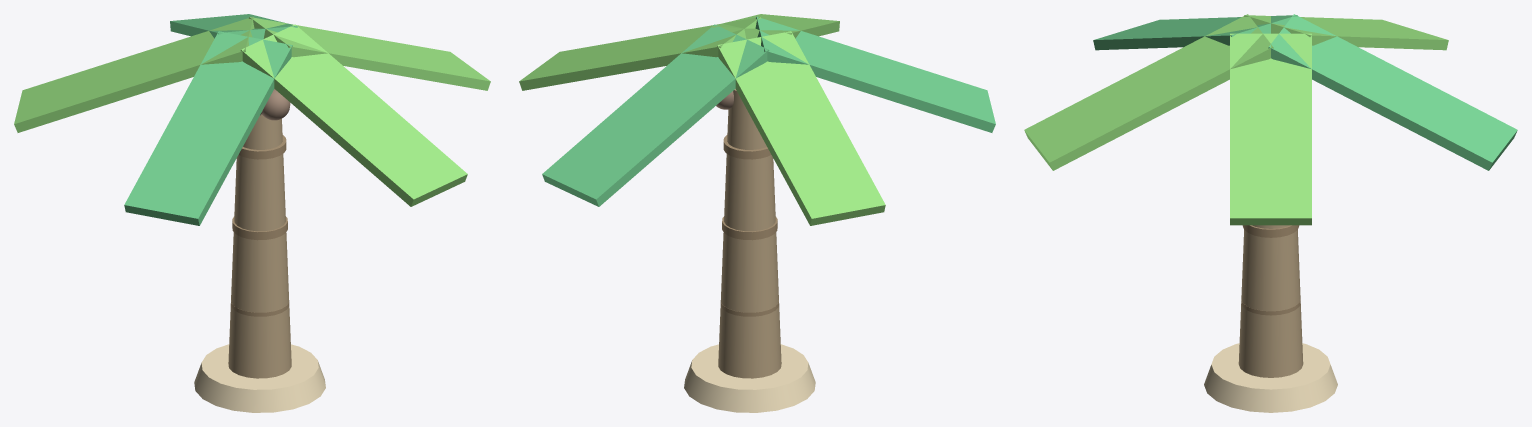
Rendered from palm.glb.
The picture shows the model from 3 angles, left to right: view 1: azimuth 30°, elevation 25°; view 2: azimuth 150°, elevation 25°; view 3: azimuth 270°, elevation 25°; orthographic projection.
Size of the model in its own units: 3.15 by 2.63 by 3.31.
